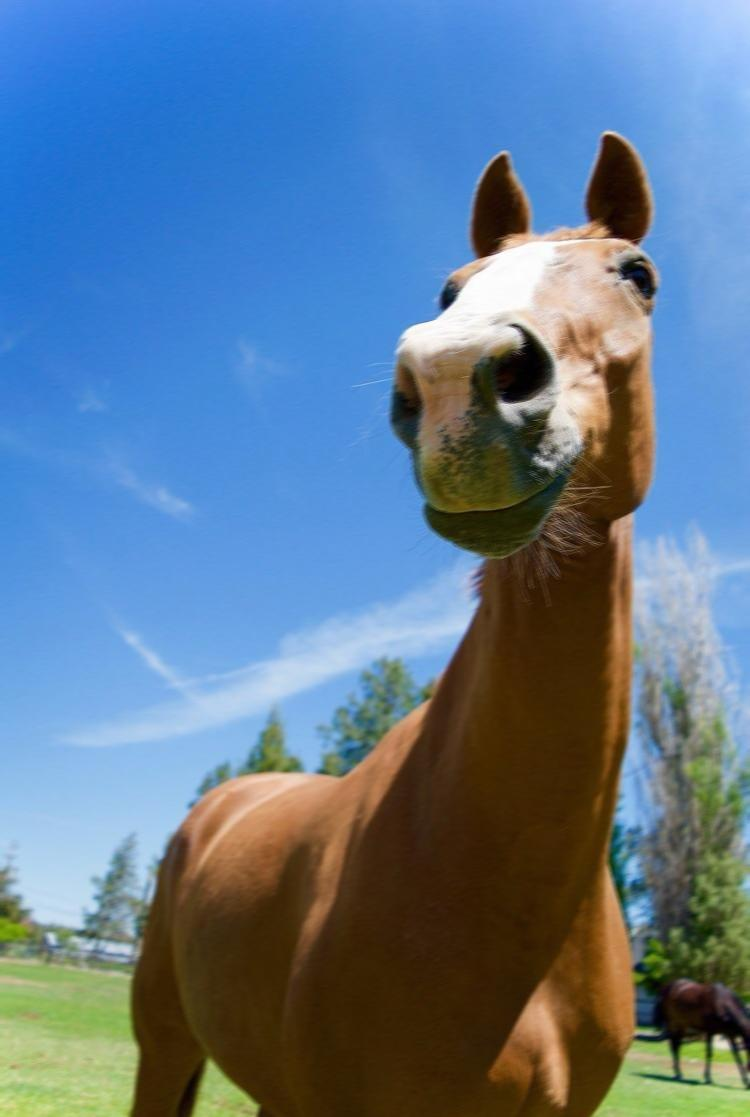horse: (112, 118, 680, 1117)
